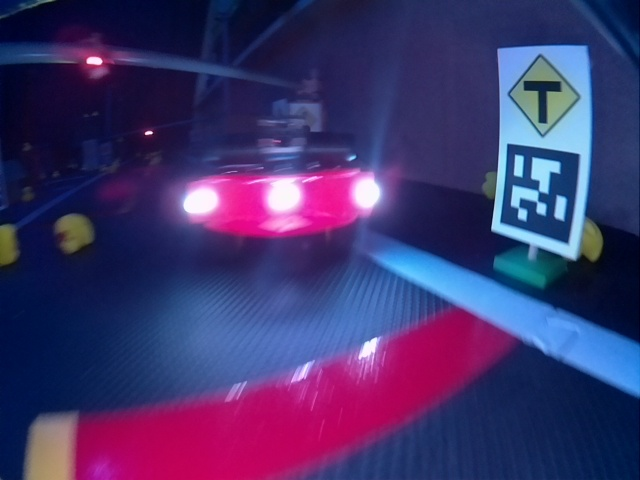Duckie: (54, 216, 93, 251), (580, 218, 603, 263), (2, 225, 17, 264), (481, 169, 495, 199)
Duckiebot: (183, 124, 382, 256)
Intersection sign: (509, 54, 578, 138)
QR code: (500, 143, 577, 247)
Traffic light: (78, 37, 114, 80)
